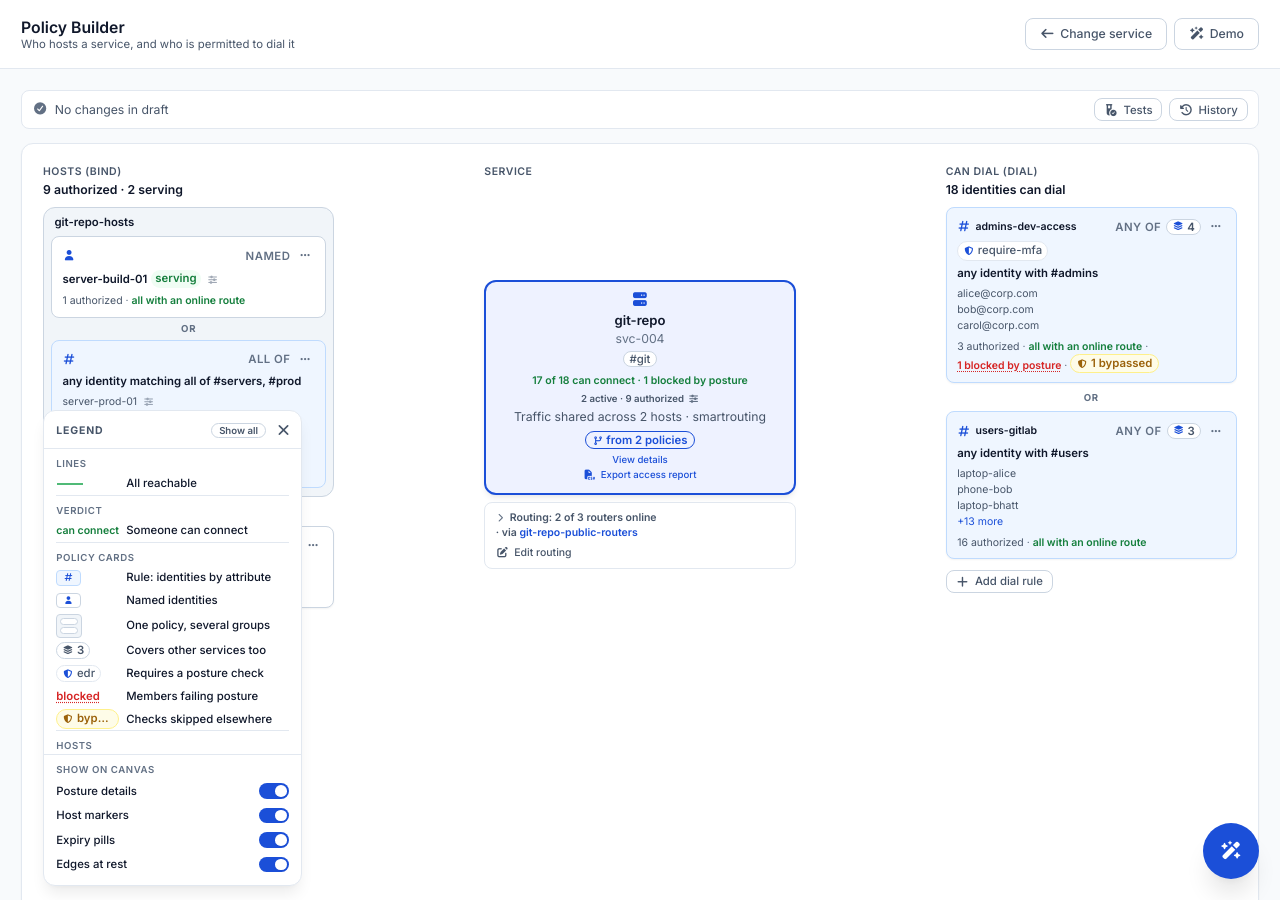
Test: PolicyBuilderComponent — live changes from outside the builder (Demo panel) › the Demo button opens the panel with the three scenarios; Escape closes it
This screenshot has width=1280, height=900.
Step 1. Click the button with class "demo-btn" → [1217, 34], box [1174, 18, 1259, 50]
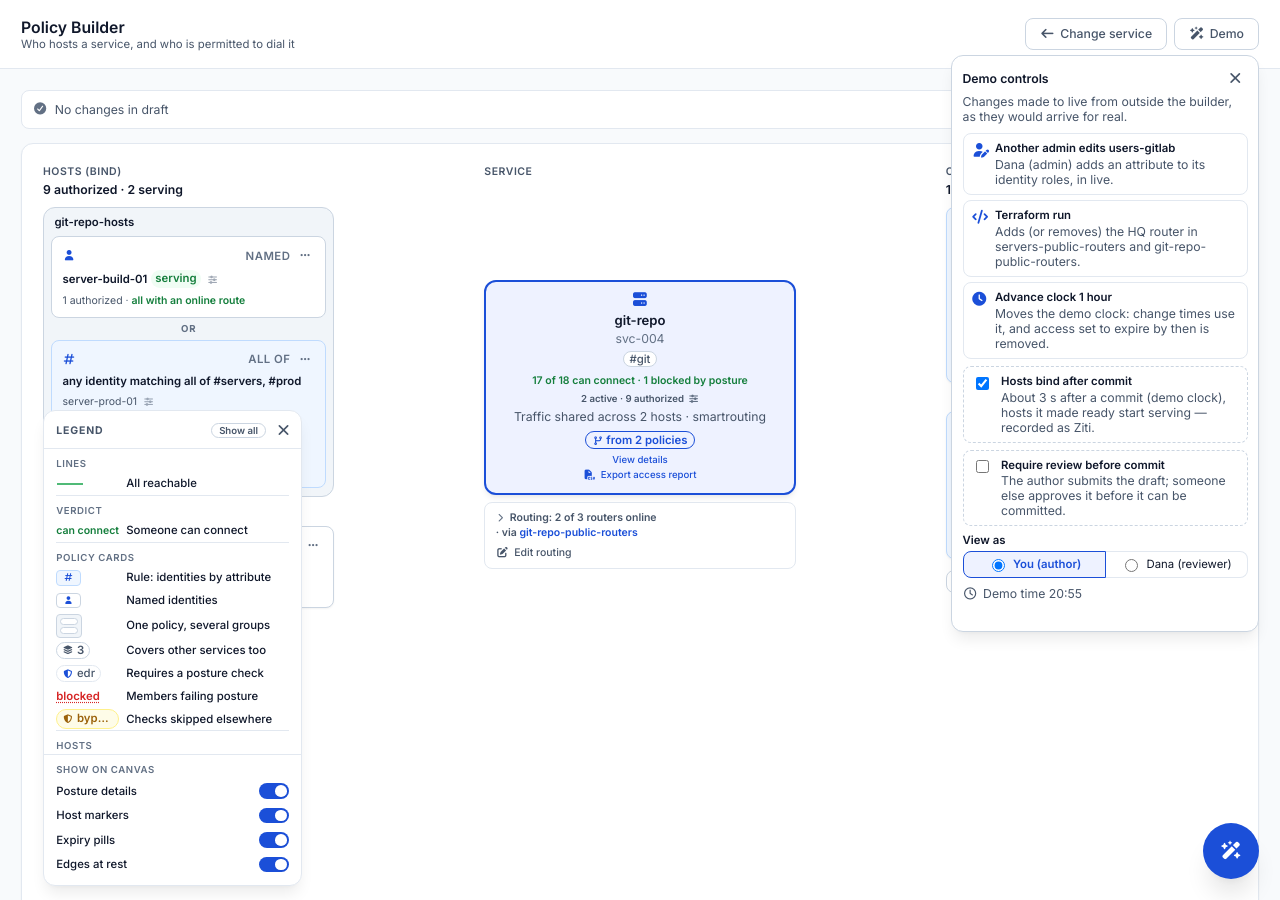
Result: the text with class "demo-run-label" reads "Hosts bind after commit" at [1001, 374, 1132, 388]
Result: the checkbox with class "demo-bind-toggle" is checked at [976, 376, 989, 390]
Step 2. Press Escape in the element with id "demo-panel", box [951, 55, 1259, 632]
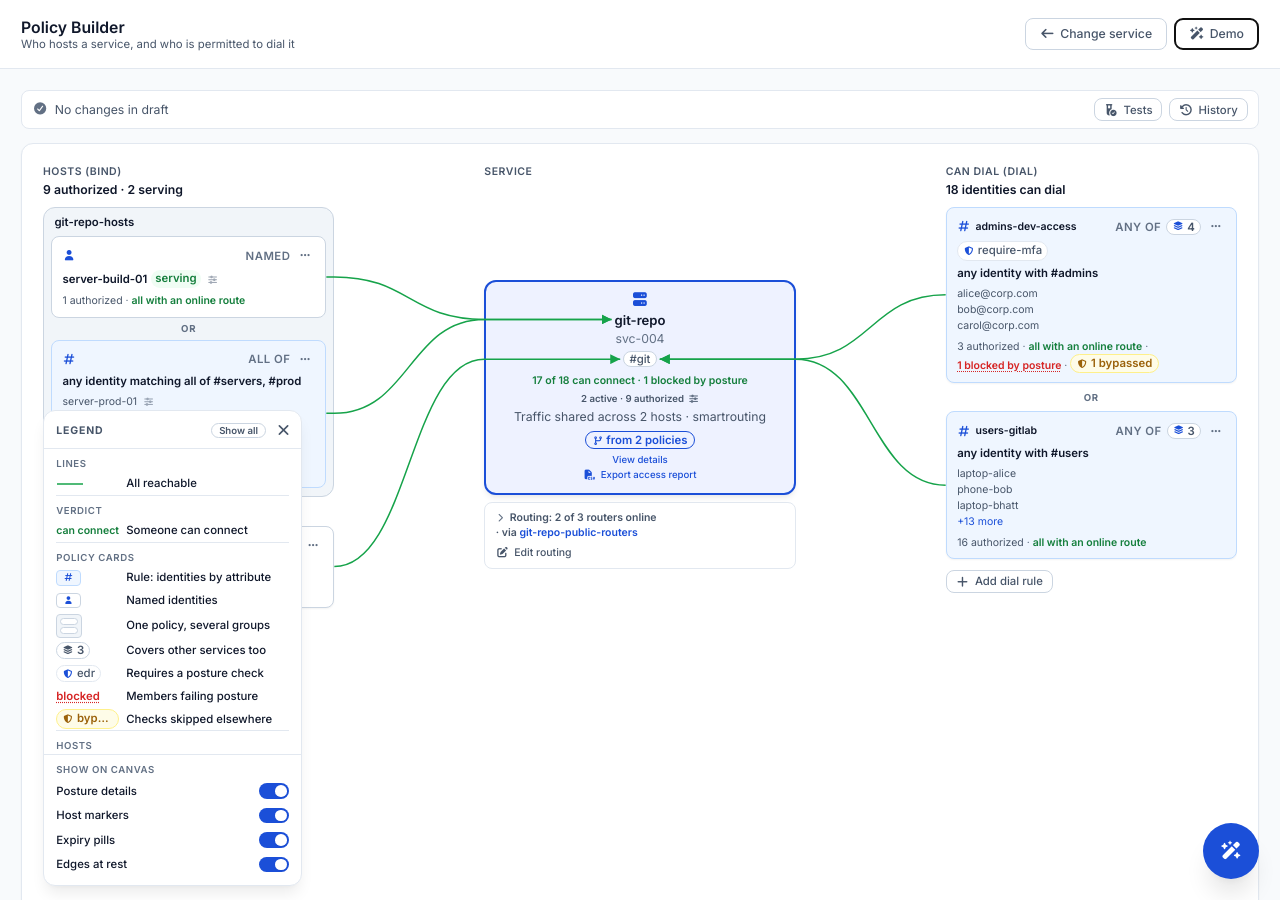
Result: the element with id "demo-panel" is gone
